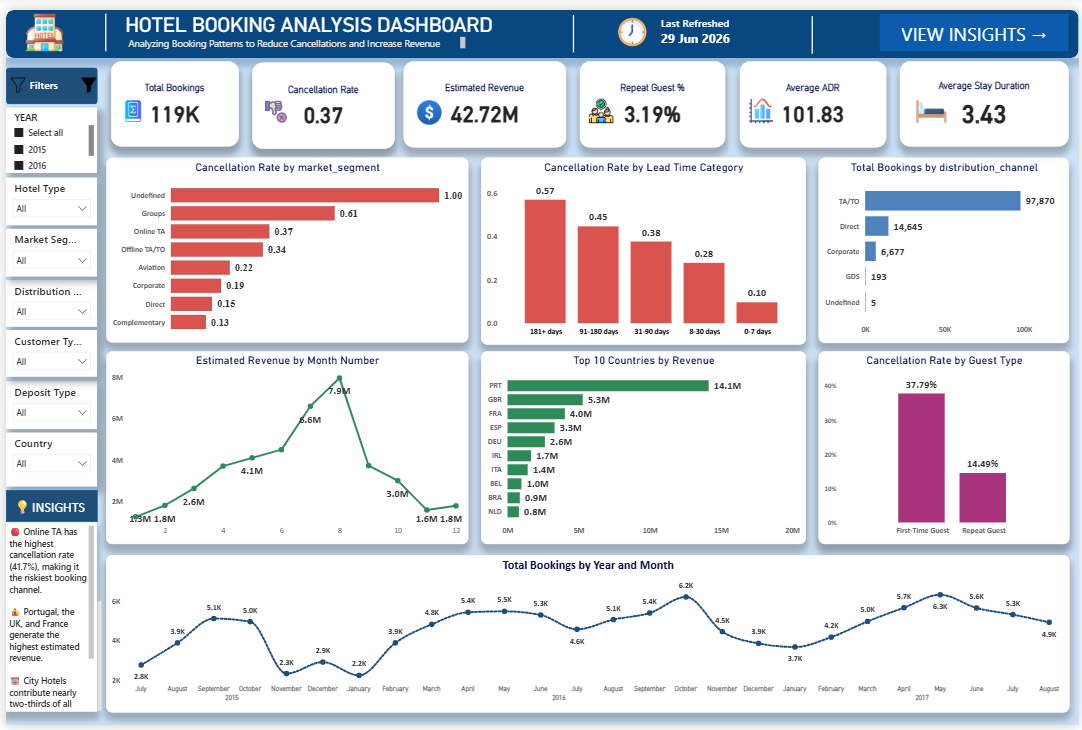

Layout of this report page (visuals, bound fields, positions):
{"tool":"powerbi","page":{"name":"Overview","canvas":[1650,1100],"ordinal":0},"visuals":[{"type":"textbox","box":[0,0,12.7,12.7],"z":0},{"type":"shape","box":[0,0,1650,74],"z":1000},{"type":"cardVisual","title":"Total Bookings","fields":{"Data":["hotel_bookings.Cancellation Rate"]},"box":[378,80,219,133],"z":2000},{"type":"cardVisual","title":"Total Bookings","fields":{"Data":["hotel_bookings.Estimated Revenue"]},"box":[611.7,79.3,250,132.8],"z":3000},{"type":"cardVisual","title":"Total Bookings","fields":{"Data":["hotel_bookings.Average ADR"]},"box":[1128.6,79.3,225.9,132.8],"z":4000},{"type":"cardVisual","title":"Total Bookings","fields":{"Data":["hotel_bookings.Repeat Guest %"]},"box":[883.1,79.3,224.1,132.8],"z":5000},{"type":"clusteredBarChart","fields":{"Y":["hotel_bookings.Cancellation Rate"],"Category":["hotel_bookings.market_segment"]},"box":[154.2,226.3,557.6,284.7],"z":6000},{"type":"clusteredColumnChart","fields":{"Y":["hotel_bookings.Cancellation Rate"],"Category":["hotel_bookings.Lead Time Category"]},"box":[731.4,226.3,500,288.1],"z":7000},{"type":"lineChart","fields":{"Category":["hotel_bookings.Month Number"],"Y":["hotel_bookings.Estimated Revenue"]},"box":[154.2,525.4,557.6,296.6],"z":8000},{"type":"clusteredBarChart","fields":{"Category":["hotel_bookings.distribution_channel"],"Y":["hotel_bookings.Total Bookings"]},"box":[1250.9,226.3,386,286],"z":9000},{"type":"barChart","title":"Top 10 Countries by Revenue","fields":{"Y":["hotel_bookings.Estimated Revenue"],"Category":["hotel_bookings.country"]},"box":[730.5,525.4,500,296.6],"z":10000},{"type":"clusteredColumnChart","fields":{"Y":["hotel_bookings.Cancellation Rate"],"Category":["hotel_bookings.Guest Type"]},"box":[1249.2,525.4,386.4,296.6],"z":11000},{"type":"lineChart","fields":{"Y":["hotel_bookings.Total Bookings"],"Category":["hotel_bookings.Arrival Date.Variation.Date Hierarchy.Year","hotel_bookings.Arrival Date.Variation.Date Hierarchy.Month","hotel_bookings.Arrival Date.Variation.Date Hierarchy.Day"]},"box":[153.6,837.7,1482.6,242],"z":12000},{"type":"cardVisual","title":"Total Bookings","fields":{"Data":["hotel_bookings.Average Stay Duration"]},"box":[1375.9,79.3,260.3,131],"z":13000},{"type":"cardVisual","title":"Total Bookings","fields":{"Data":["hotel_bookings.Total Bookings"]},"box":[162,79.3,196.6,131.2],"z":14000},{"type":"shape","box":[76.3,6.3,153.2,57.9],"z":15000},{"type":"shape","box":[0,88.2,141.2,56.5],"z":16000},{"type":"slicer","fields":{"Values":["hotel_bookings.arrival_date_year"]},"box":[0,150.4,140,101.1],"z":17000},{"type":"slicer","fields":{"Values":["hotel_bookings.Hotel_Type"]},"box":[0,257.1,140,73.3],"z":18000},{"type":"slicer","fields":{"Values":["hotel_bookings.distribution_channel"]},"box":[0,415.1,140,72.2],"z":19000},{"type":"slicer","fields":{"Values":["hotel_bookings.market_segment"]},"box":[0,336.1,140,73.3],"z":20000},{"type":"slicer","fields":{"Values":["hotel_bookings.deposit_type"]},"box":[0,570.9,140,73.3],"z":21000},{"type":"slicer","fields":{"Values":["hotel_bookings.customer_type"]},"box":[0,493,140,72.2],"z":22000},{"type":"slicer","fields":{"Values":["hotel_bookings.country"]},"box":[0,649.9,140,83.3],"z":23000},{"type":"shape","box":[0,738.9,141.1,48.9],"z":24000},{"type":"shape","box":[5.9,909.8,141.2,168.6],"z":25000},{"type":"textbox","box":[0,787.5,140,291.2],"z":26000},{"type":"image","box":[0,104.3,37.5,23.6],"z":27000},{"type":"image","box":[113.5,104.3,27.9,23.6],"z":28000},{"type":"image","box":[160.9,137.3,68.2,37.3],"z":29000},{"type":"image","box":[389,138,54,36],"z":30000},{"type":"image","box":[629,138,45,38],"z":31000},{"type":"image","box":[890.9,137.3,50,37.3],"z":32000},{"type":"image","box":[1139.1,137.3,46.4,37.3],"z":33000},{"type":"image","box":[1388.3,133.3,70,46.7],"z":34000},{"type":"image","box":[18.9,6.3,81.1,57.9],"z":35000},{"type":"textbox","box":[182.5,36.2,528.8,28.8],"z":36000},{"type":"actionButton","box":[1345,6.2,290,57.5],"z":37000},{"type":"image","box":[930,11.2,65,45],"z":38000},{"type":"textbox","box":[981.7,3.3,146.7,61.7],"z":39000},{"type":"shape","box":[796.2,7.5,153.8,57.5],"z":40000},{"type":"shape","box":[1162.5,8.8,153.8,57.5],"z":41000}]}

Visuals, with their boxes in screenshot pixels (x1, y1, x2, y2), scaled from the page's 1650x1100 canvas onto the 1082x730 screenshot:
textbox: (0, 0, 8, 8)
shape: (0, 0, 1081, 49)
"Total Bookings" cardVisual: (248, 53, 391, 141)
"Total Bookings" cardVisual: (401, 53, 565, 141)
"Total Bookings" cardVisual: (740, 53, 888, 141)
"Total Bookings" cardVisual: (579, 53, 726, 141)
clusteredBarChart - hotel_bookings.Cancellation Rate x hotel_bookings.market_segment: (101, 150, 467, 339)
clusteredColumnChart - hotel_bookings.Cancellation Rate x hotel_bookings.Lead Time Category: (480, 150, 807, 341)
lineChart - hotel_bookings.Month Number x hotel_bookings.Estimated Revenue: (101, 349, 467, 546)
clusteredBarChart - hotel_bookings.distribution_channel x hotel_bookings.Total Bookings: (820, 150, 1073, 340)
"Top 10 Countries by Revenue" barChart: (479, 349, 807, 546)
clusteredColumnChart - hotel_bookings.Cancellation Rate x hotel_bookings.Guest Type: (819, 349, 1073, 546)
lineChart - hotel_bookings.Total Bookings x hotel_bookings.Arrival Date.Variation.Date Hierarchy.Year: (101, 556, 1073, 717)
"Total Bookings" cardVisual: (902, 53, 1073, 140)
"Total Bookings" cardVisual: (106, 53, 235, 140)
shape: (50, 4, 150, 43)
shape: (0, 59, 93, 96)
slicer - hotel_bookings.arrival_date_year: (0, 100, 92, 167)
slicer - hotel_bookings.Hotel_Type: (0, 171, 92, 219)
slicer - hotel_bookings.distribution_channel: (0, 275, 92, 323)
slicer - hotel_bookings.market_segment: (0, 223, 92, 272)
slicer - hotel_bookings.deposit_type: (0, 379, 92, 428)
slicer - hotel_bookings.customer_type: (0, 327, 92, 375)
slicer - hotel_bookings.country: (0, 431, 92, 487)
shape: (0, 490, 93, 523)
shape: (4, 604, 96, 716)
textbox: (0, 523, 92, 716)
image: (0, 69, 25, 85)
image: (74, 69, 93, 85)
image: (106, 91, 150, 116)
image: (255, 92, 291, 115)
image: (412, 92, 442, 117)
image: (584, 91, 617, 116)
image: (747, 91, 777, 116)
image: (910, 88, 956, 119)
image: (12, 4, 66, 43)
textbox: (120, 24, 466, 43)
actionButton: (882, 4, 1072, 42)
image: (610, 7, 652, 37)
textbox: (644, 2, 740, 43)
shape: (522, 5, 623, 43)
shape: (762, 6, 863, 44)
